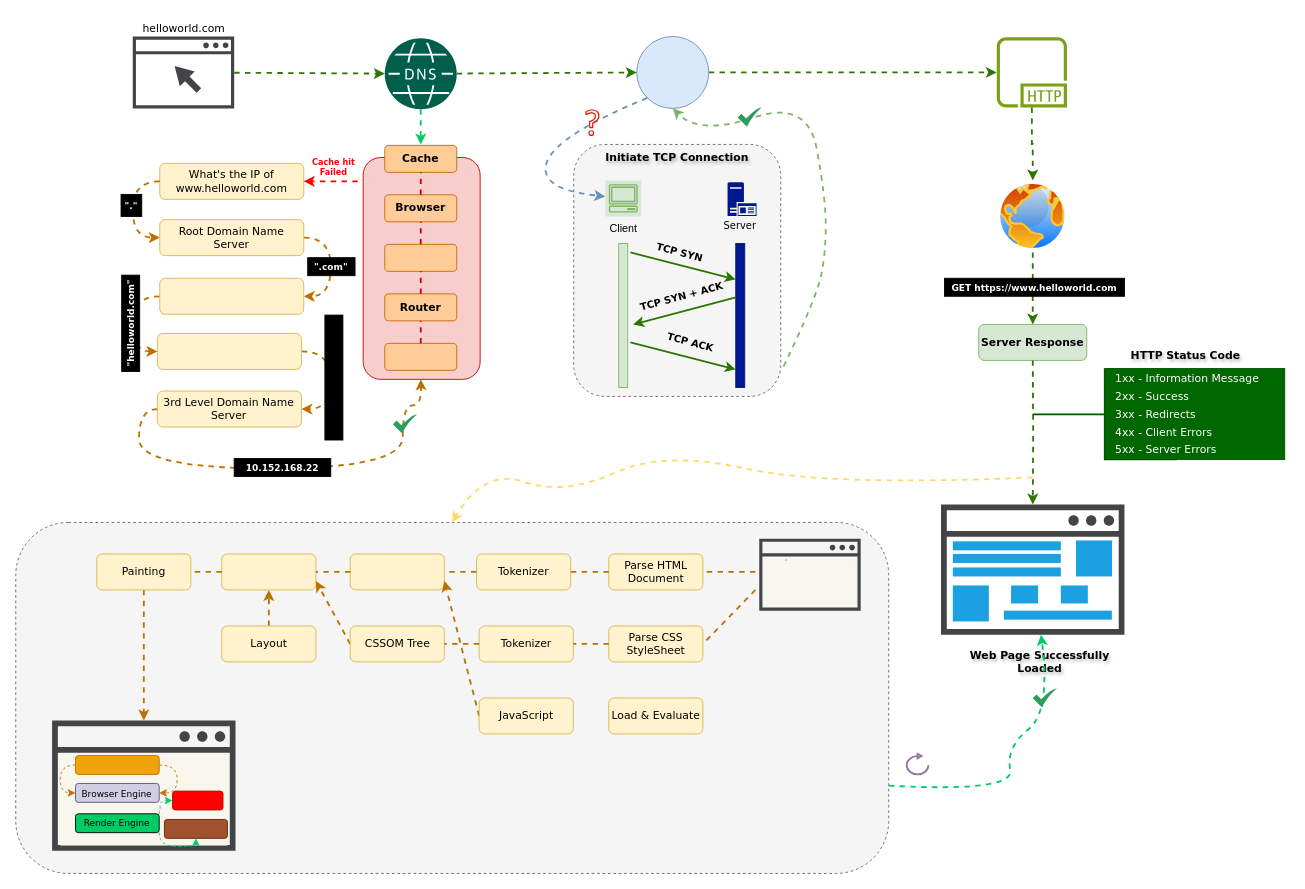
The diagram is 1305 pixels wide and 889 high, and some of its shapes have lost their labels. The shapes that lost their labels are listed below. From the top down, each one's centre as x and y in pixels, then its label:
point (672, 72): TCP/IP
point (420, 257): Operating System
point (231, 295): Top Level Domain Name Server
point (229, 351): 2nd Level Domain Name Server
point (420, 356): ISP
point (333, 377): "www.helloworld.com"
point (268, 571): Render Tree
point (396, 571): DOM Tree
point (809, 582): HTML + CSS + JS
point (117, 764): User Interface
point (197, 800): Networking
point (195, 828): JS Engine
